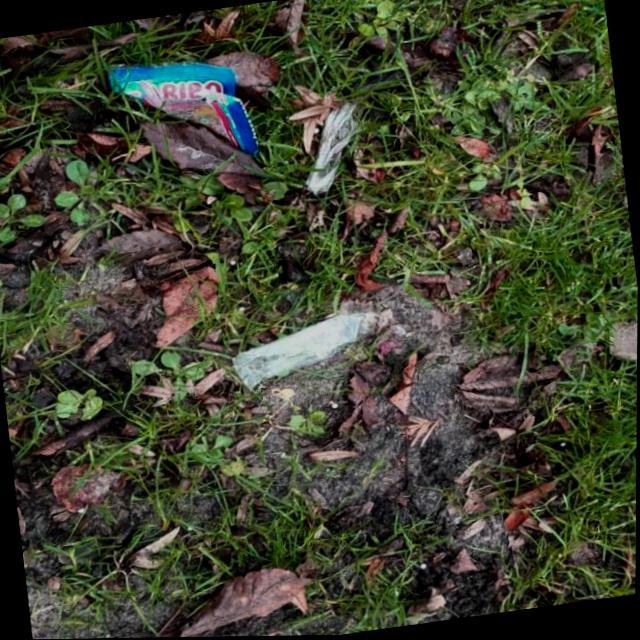Paper: (294, 99, 374, 199)
Plastic: (107, 48, 262, 173), (227, 303, 380, 394)
